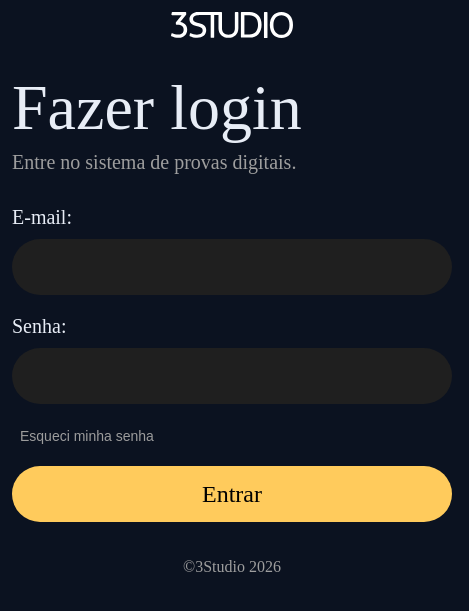
Test: LoginPanel › 'Esqueci minha senha' é inerte nesta wave e apenas exibe uma dica (DP-5)
Step 1. Click the button "Esqueci minha senha" → (87, 436), box [12,424,162,448]
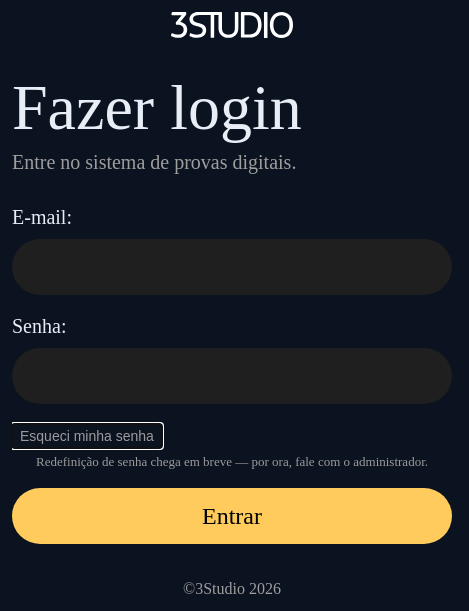
Result: the text "fale com o administrador" is shown at [36,454,428,469]
